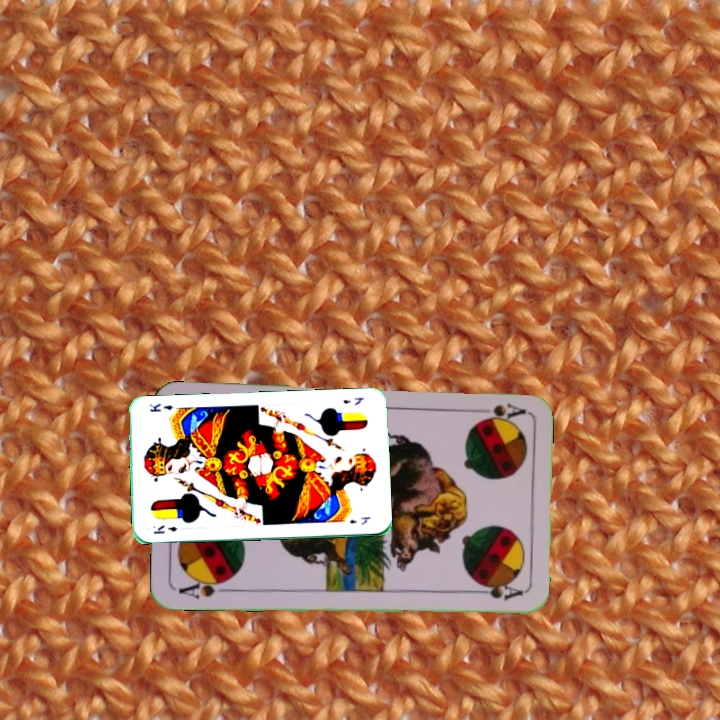EK: (149, 521, 179, 536), (339, 394, 366, 408)
SA: (175, 575, 234, 602), (468, 399, 527, 421)
